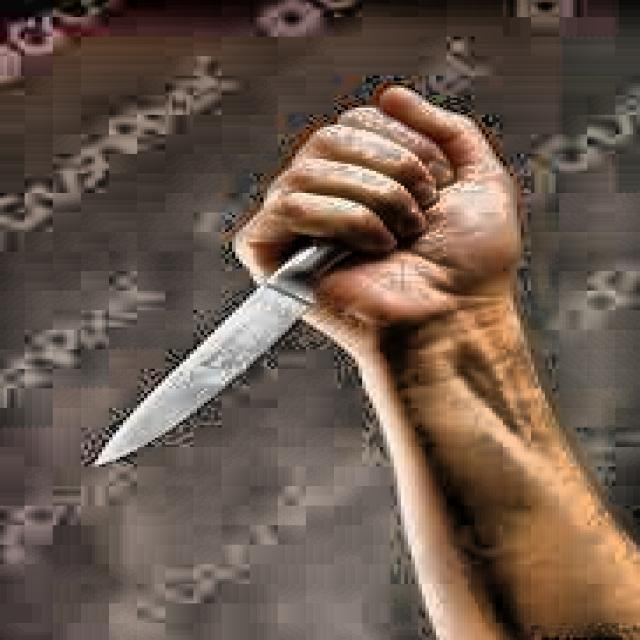knife: (96, 243, 352, 467)
